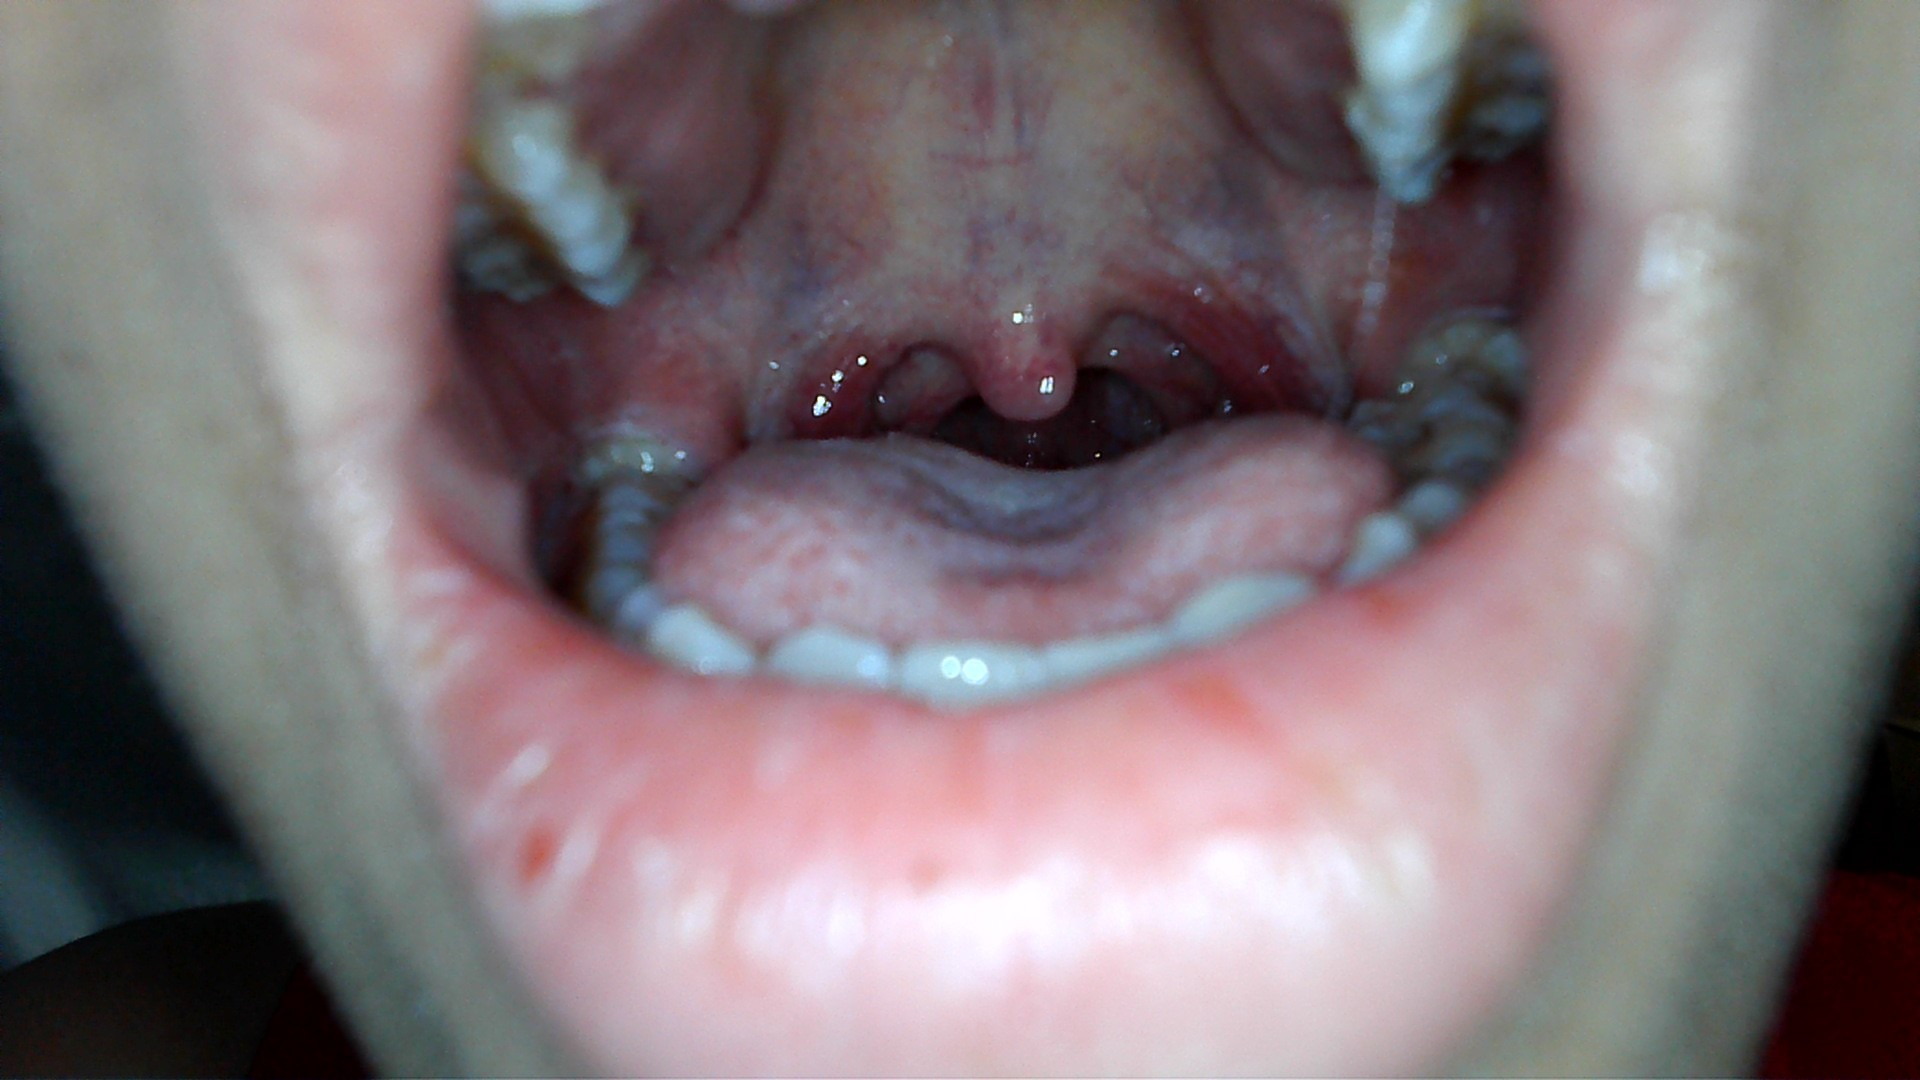throat: (1166, 240, 1317, 407), (762, 276, 894, 429)
